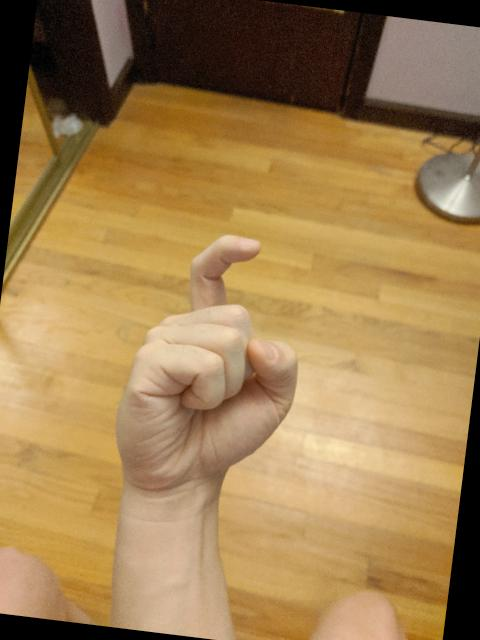X: (101, 218, 318, 512)
